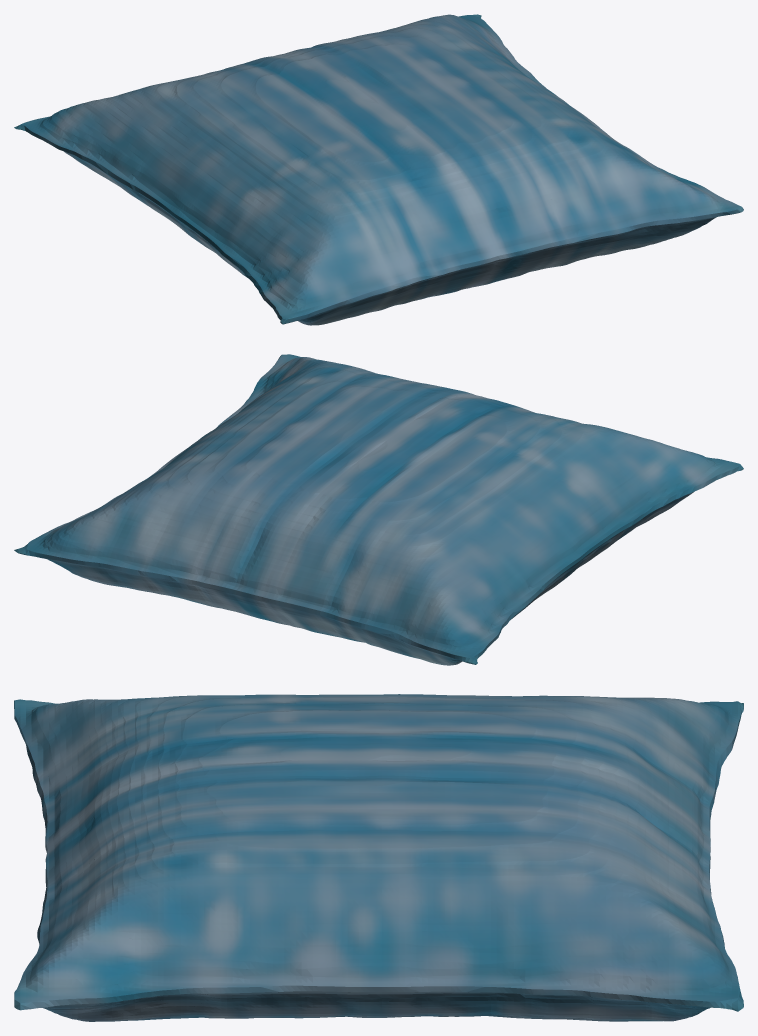
Rendered from test_seat.glb.
The picture shows the model from 3 angles, top to bottom: view 1: azimuth 30°, elevation 25°; view 2: azimuth 150°, elevation 25°; view 3: azimuth 270°, elevation 25°; orthographic projection. The views are drawn at different scales.
Parts seen in each view (by area): view 1: tmpf21vdg_q.ply; view 2: tmpf21vdg_q.ply; view 3: tmpf21vdg_q.ply.
Boxes of the visible parts, x1=… form: tmpf21vdg_q.ply: x1=14, y1=14, x2=743, y2=325; tmpf21vdg_q.ply: x1=14, y1=354, x2=743, y2=665; tmpf21vdg_q.ply: x1=14, y1=694, x2=743, y2=1021.
Bounding box in the file's own units: 1.97 × 0.5464 × 1.97.
